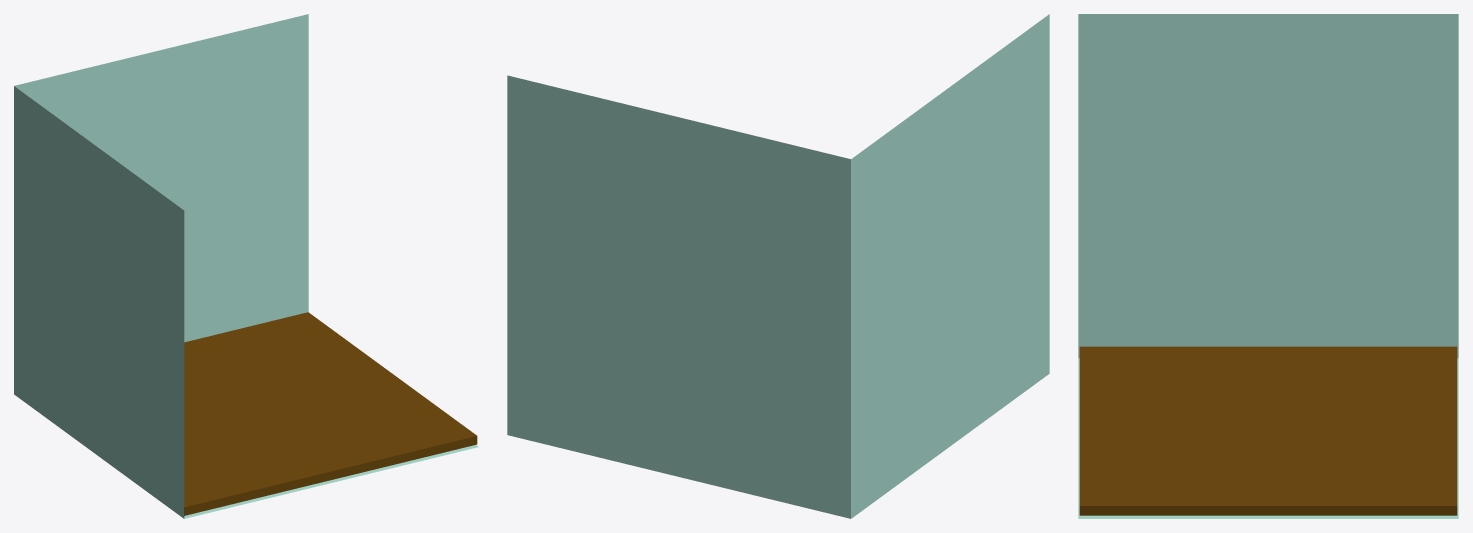
The model's file is room1.fbx.
3 renders of one model, left to right at view 1: azimuth 30°, elevation 25°; view 2: azimuth 150°, elevation 25°; view 3: azimuth 270°, elevation 25°, orthographic. The views are drawn at different scales.
Visible parts, largest first — view 1: Cube.001, Cube; view 2: Cube.001; view 3: Cube.001, Cube.
Part boxes in pixels (left/top/right/bottom): Cube.001: left=14, top=14, right=478, bottom=518; Cube: left=184, top=312, right=477, bottom=515; Cube.001: left=507, top=14, right=1049, bottom=518; Cube.001: left=1078, top=14, right=1458, bottom=518; Cube: left=1079, top=346, right=1457, bottom=515.
Bounding box in the file's own units: 343 × 343 × 343.
